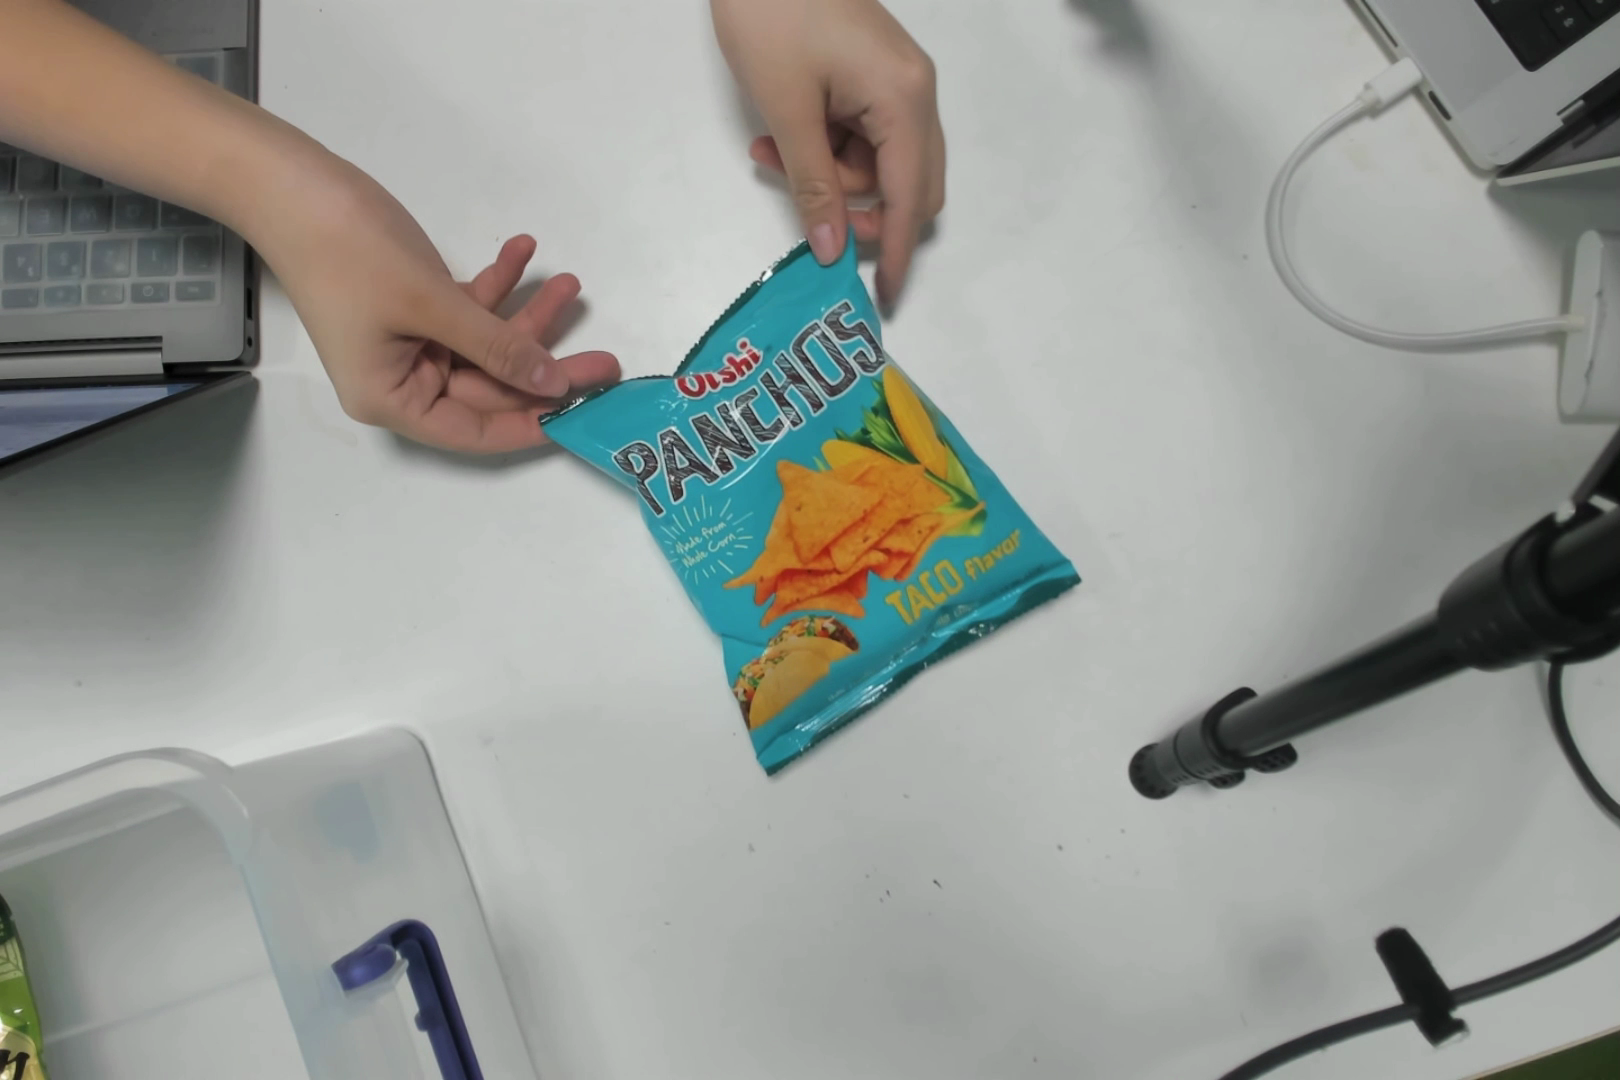PotatochipsKeropok_1-99g_NonHalal_NonHealthy: (642, 310, 1035, 694)
